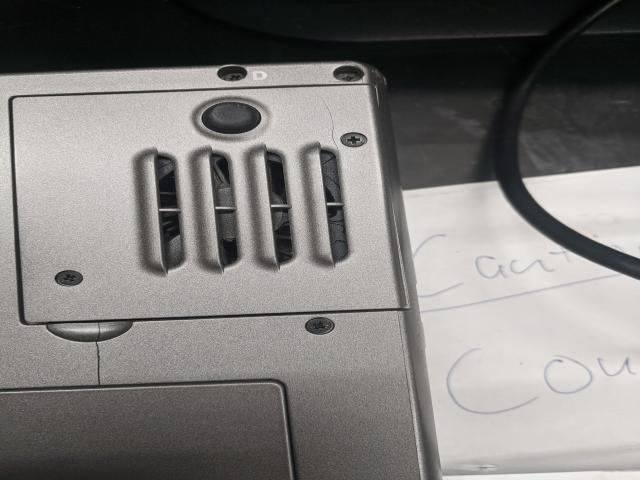CRS: (303, 316, 337, 336), (340, 130, 370, 149), (220, 68, 251, 84), (54, 270, 85, 286), (336, 71, 362, 83)
